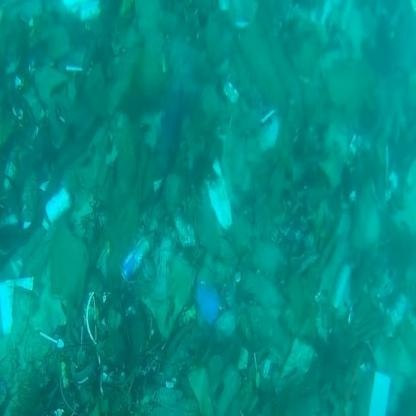can: (39, 183, 86, 249), (104, 240, 154, 280)
